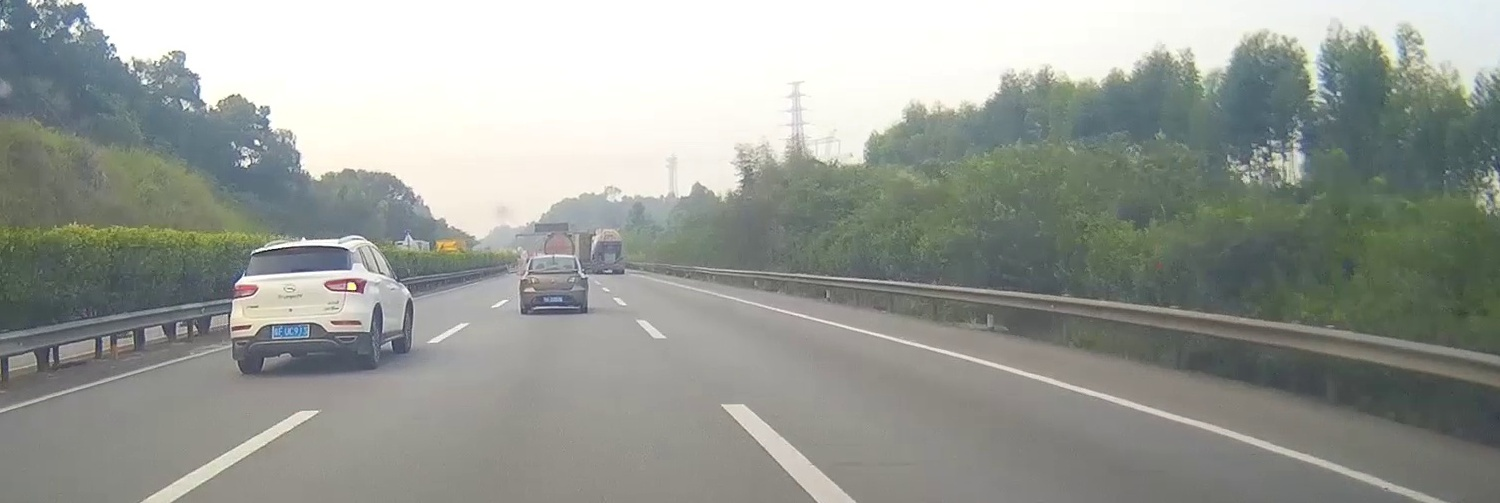L_light: (233, 284, 258, 299), (523, 277, 540, 284)
R_light: (324, 277, 367, 294), (567, 276, 584, 283)
T_light: (283, 249, 305, 253), (549, 258, 558, 260)
day-no: (519, 256, 588, 314)
day-right: (230, 243, 368, 374)
